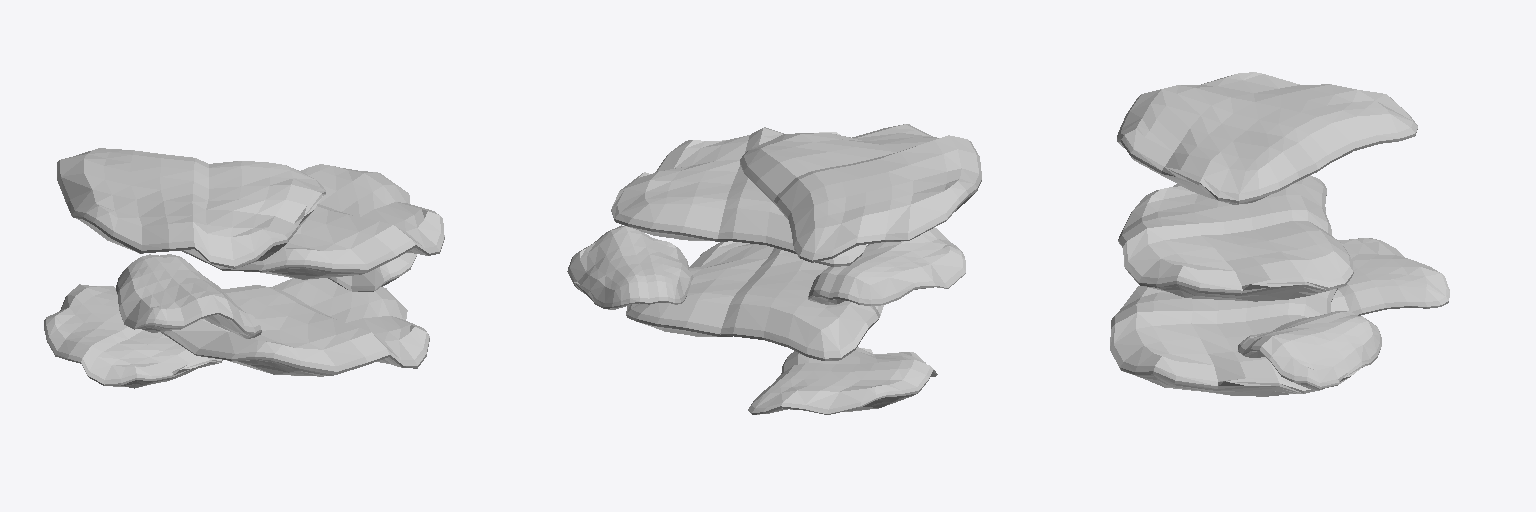
Rendered from Mushroom_Laetiporus.obj.
3 views of the same model, side by side, from view 1: azimuth 30°, elevation 25°; view 2: azimuth 150°, elevation 25°; view 3: azimuth 270°, elevation 25° (orthographic).
Parts seen in each view (by area): view 1: Mushroom_Laetiporus; view 2: Mushroom_Laetiporus; view 3: Mushroom_Laetiporus.
Boxes of the visible parts, x1=… form: Mushroom_Laetiporus: x1=44, y1=148, x2=444, y2=388; Mushroom_Laetiporus: x1=567, y1=124, x2=981, y2=414; Mushroom_Laetiporus: x1=1110, y1=72, x2=1449, y2=396.
Size of the model in its own units: 1.37 by 0.767 by 1.1.